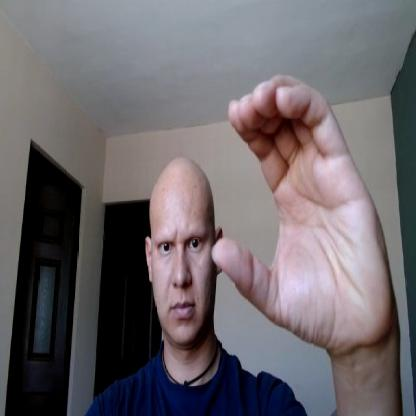C: (211, 72, 394, 350)
